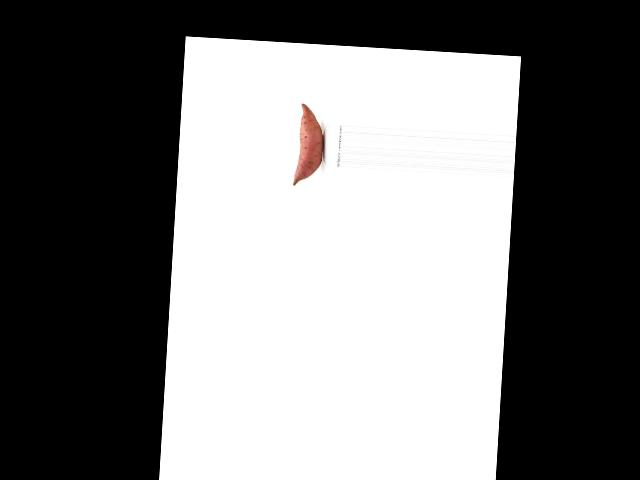sweet_potato: (288, 102, 326, 187)
